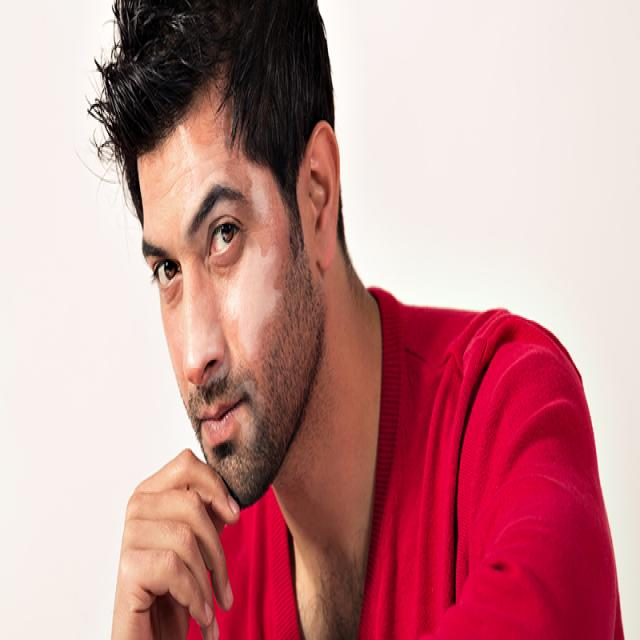vitiligo: (223, 266, 301, 363), (166, 142, 235, 203)
